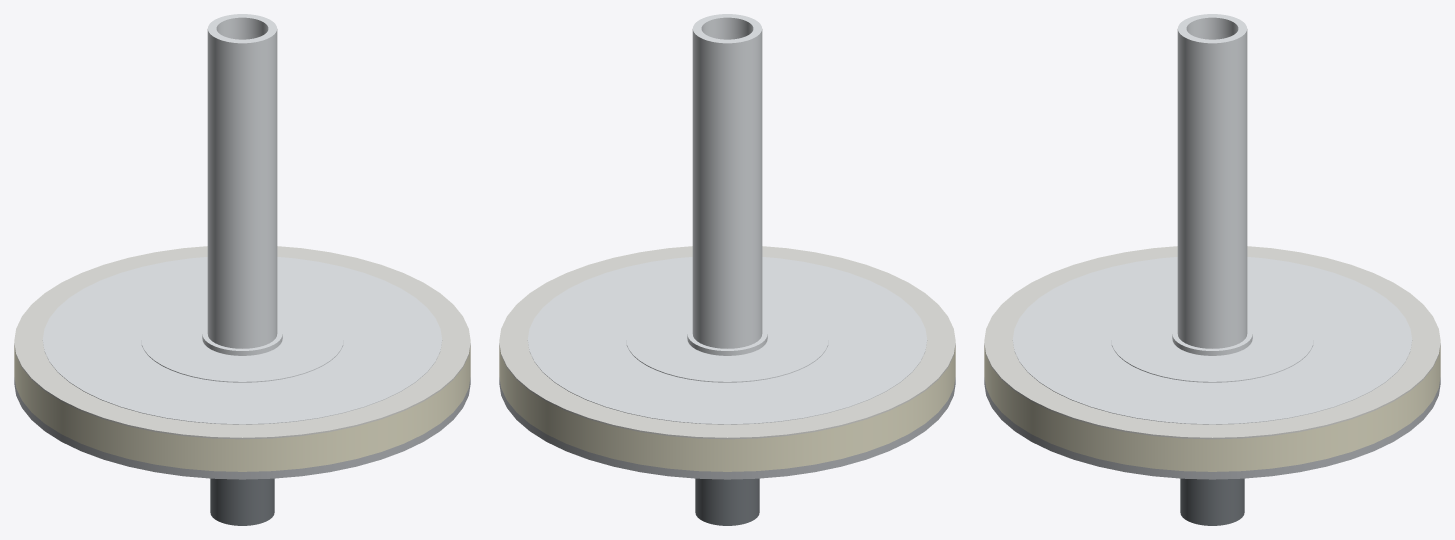
Rendered from lead-soil-stack-P-6-TYP.glb.
3 views of the same model, side by side, from view 1: azimuth 30°, elevation 25°; view 2: azimuth 150°, elevation 25°; view 3: azimuth 270°, elevation 25° (orthographic).
Parts seen in each view (by area): view 1: topcoat__topcoat, existing__membrane, existing__insulation, existing__steel_deck, existing__soil_stack; view 2: topcoat__topcoat, existing__membrane, existing__insulation, existing__steel_deck, existing__soil_stack; view 3: topcoat__topcoat, existing__membrane, existing__insulation, existing__steel_deck, existing__soil_stack.
Part boxes in pixels (box(x1,y1,x2,y2)): topcoat__topcoat: box(42, 14, 442, 424); existing__membrane: box(14, 246, 470, 439); existing__insulation: box(14, 345, 470, 471); existing__steel_deck: box(14, 377, 470, 479); existing__soil_stack: box(210, 478, 274, 525); topcoat__topcoat: box(527, 14, 927, 424); existing__membrane: box(499, 246, 955, 439); existing__insulation: box(499, 345, 955, 471); existing__steel_deck: box(499, 377, 955, 479); existing__soil_stack: box(695, 478, 759, 525); topcoat__topcoat: box(1012, 14, 1412, 424); existing__membrane: box(984, 246, 1440, 439); existing__insulation: box(984, 345, 1440, 471); existing__steel_deck: box(984, 377, 1440, 479); existing__soil_stack: box(1180, 478, 1244, 525).
Size of the model in its own units: 0.8128 by 0.9502 by 0.8128.
